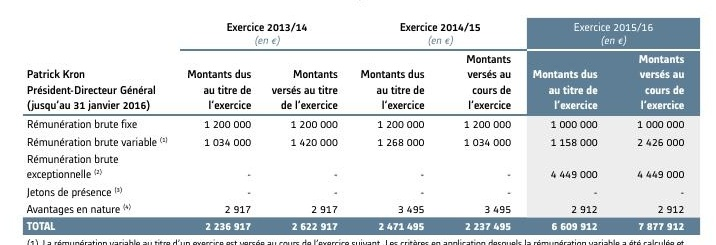table: (0, 0, 716, 245)
